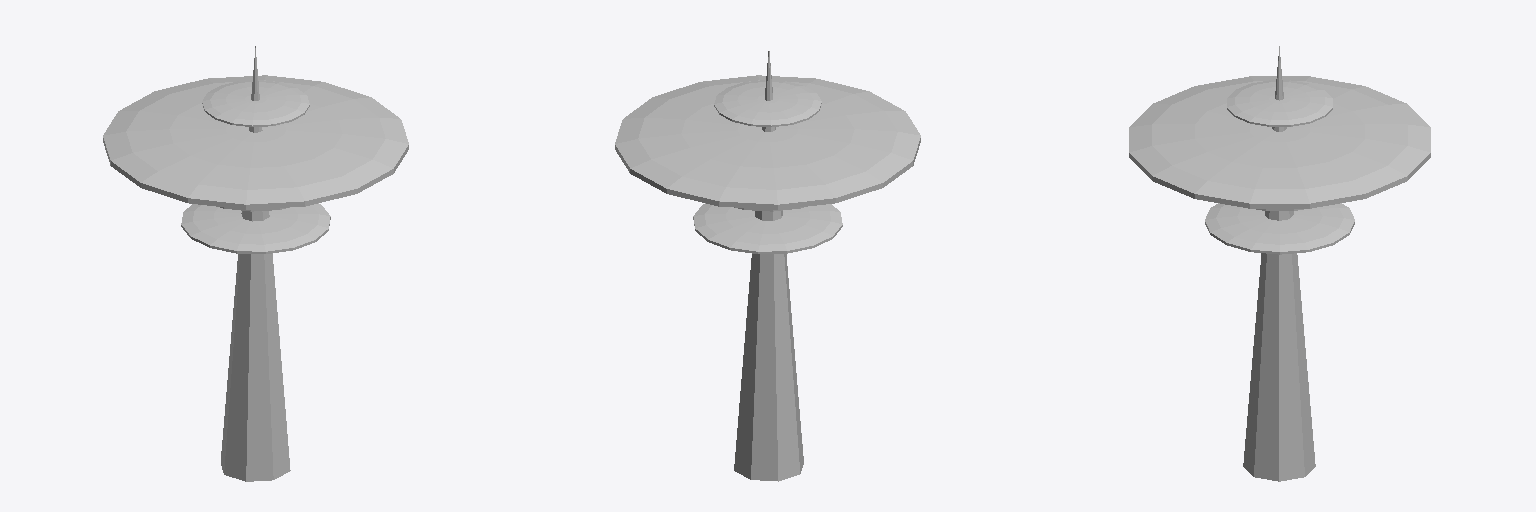
File: AlienAlpine.obj
3 views of the same model, side by side, from view 1: azimuth 30°, elevation 25°; view 2: azimuth 150°, elevation 25°; view 3: azimuth 270°, elevation 25° (orthographic).
Parts seen in each view (by area): view 1: Sphere; view 2: Sphere; view 3: Sphere.
Boxes of the visible parts, x1,y1,x2,y2 form: Sphere: [103, 46, 408, 481]; Sphere: [615, 51, 920, 481]; Sphere: [1129, 46, 1430, 481].
Size of the model in its own units: 3.54 by 5.47 by 3.54.